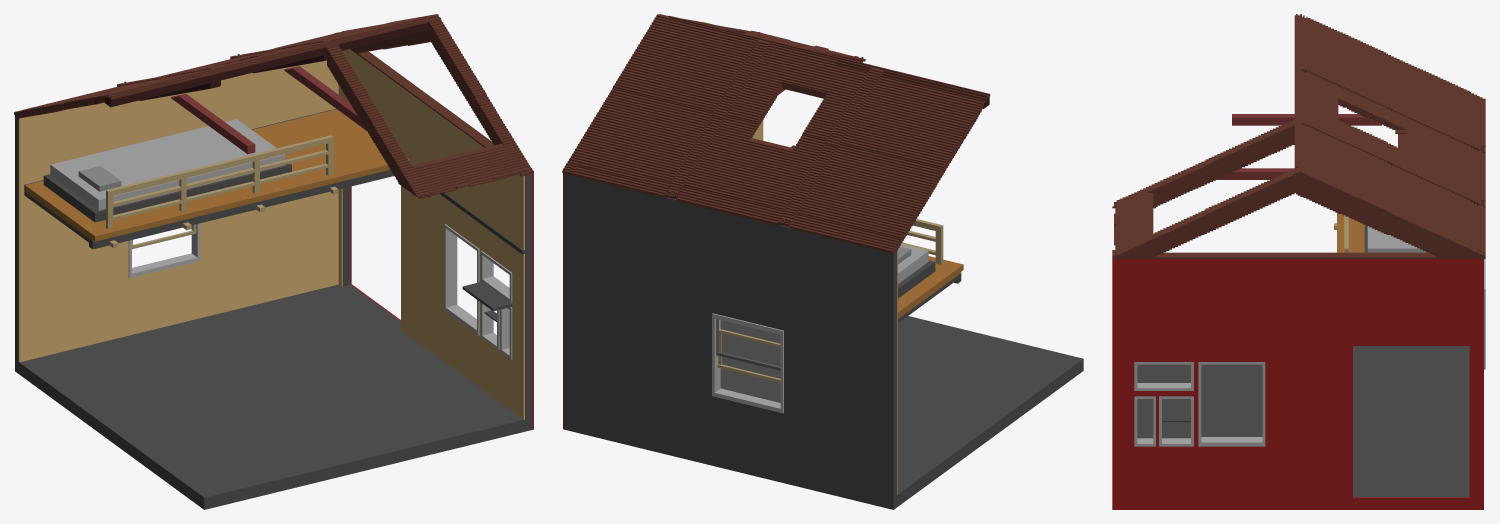
Rendered from Nha-7.obj.
The picture shows the model from 3 angles, left to right: view 1: azimuth 30°, elevation 25°; view 2: azimuth 150°, elevation 25°; view 3: azimuth 270°, elevation 25°; orthographic projection. The views are drawn at different scales.
Bounding box in the file's own units: 25.6 × 25.6 × 25.6.
1 material, 1 textured.
